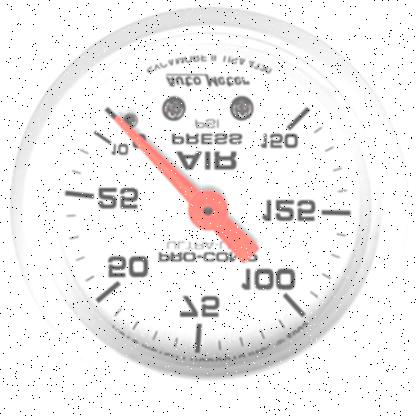needle: (114, 111, 202, 206)
